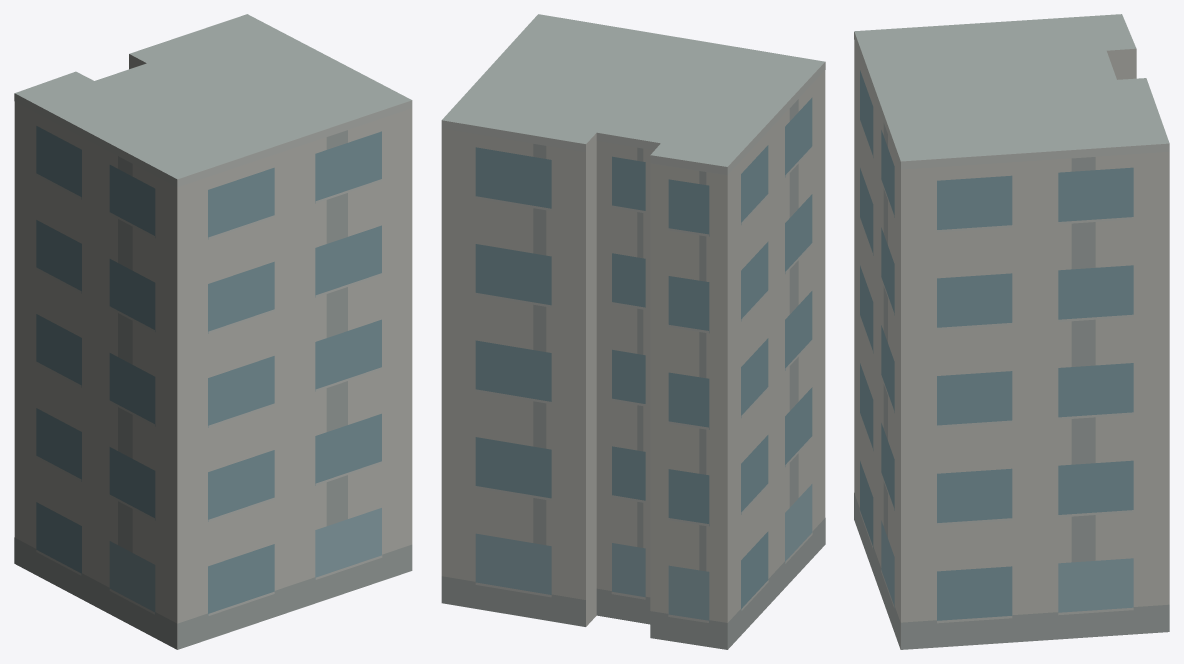
Rendered from survey-upis-33037168.glb.
3 renders of one model, left to right at view 1: azimuth 30°, elevation 25°; view 2: azimuth 150°, elevation 25°; view 3: azimuth 270°, elevation 25°, orthographic. The views are drawn at different scales.
Visible parts, largest first — view 1: survey-upis-33037168.tmp; view 2: survey-upis-33037168.tmp; view 3: survey-upis-33037168.tmp.
Boxes of the visible parts, <box> form: survey-upis-33037168.tmp: <box>14,14,412,649</box>; survey-upis-33037168.tmp: <box>441,14,825,649</box>; survey-upis-33037168.tmp: <box>854,14,1169,649</box>.
Bounding box in the file's own units: 9.21 × 14.2 × 8.32.
